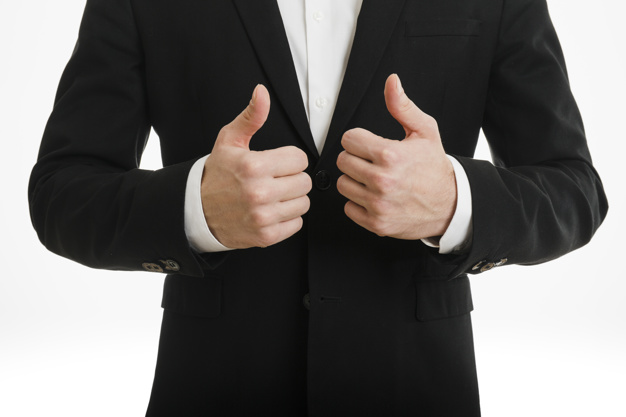thumbsup: (336, 73, 422, 236), (228, 83, 312, 249)
